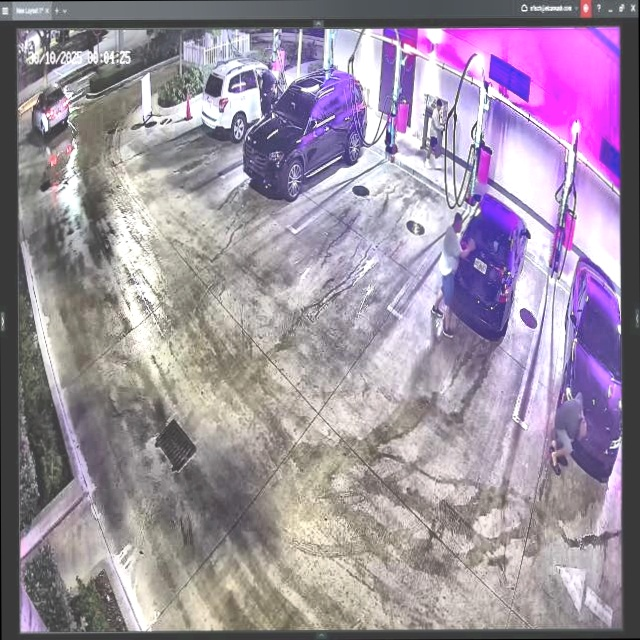Car: (245, 68, 366, 200), (445, 191, 533, 342)
